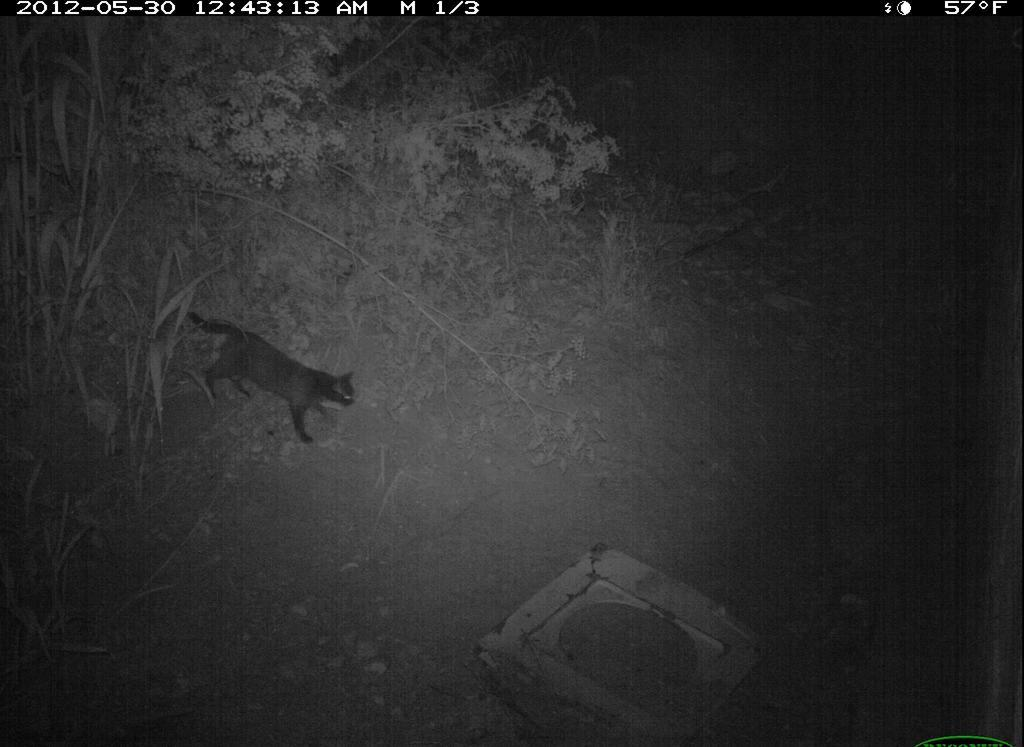cat: (180, 292, 367, 456)
